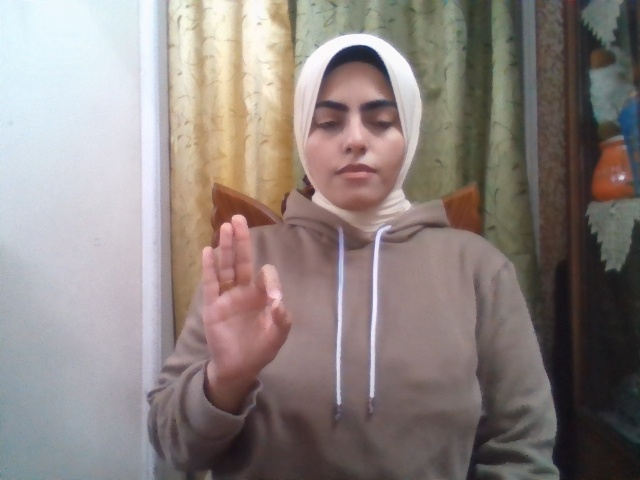F: (200, 214, 293, 384)
